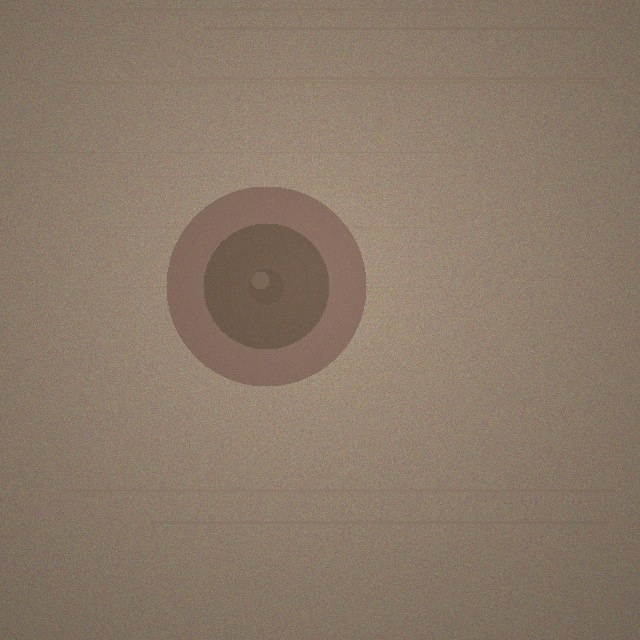good: (166, 186, 366, 386)
